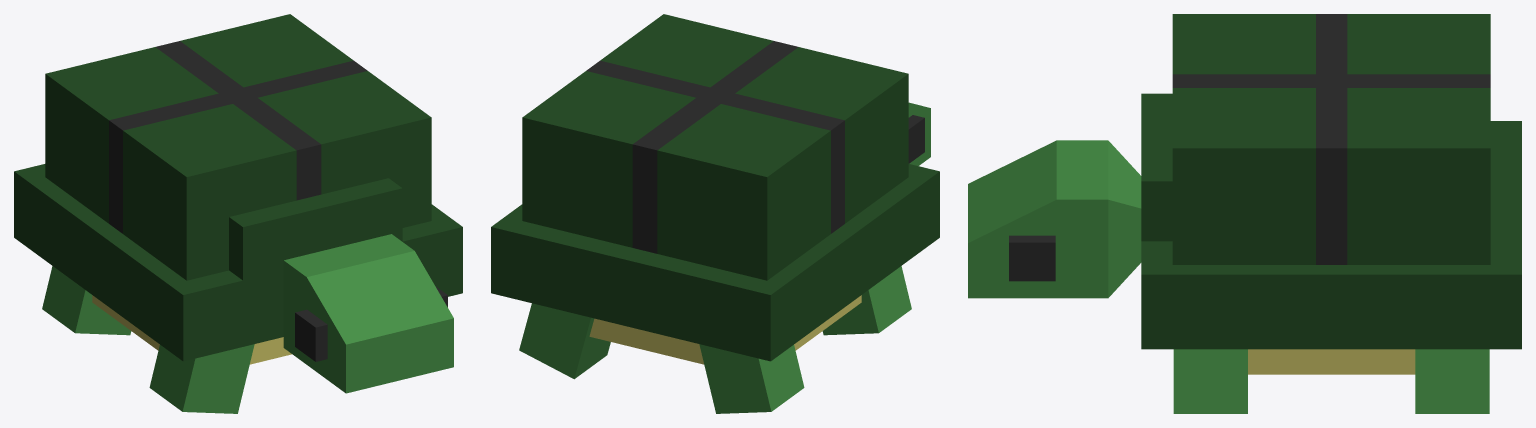
The model's file is TurtleToy_01.fbx.
3 renders of one model, left to right at view 1: azimuth 30°, elevation 25°; view 2: azimuth 150°, elevation 25°; view 3: azimuth 270°, elevation 25°, orthographic. The views are drawn at different scales.
Parts seen in each view (by area): view 1: TurtleToy_01; view 2: TurtleToy_01; view 3: TurtleToy_01.
Boxes of the visible parts, bbox=[...] form: TurtleToy_01: bbox=[14, 14, 462, 413]; TurtleToy_01: bbox=[491, 14, 939, 413]; TurtleToy_01: bbox=[968, 14, 1521, 413].
Size of the model in its own units: 25.17 by 21.47 by 38.37.
